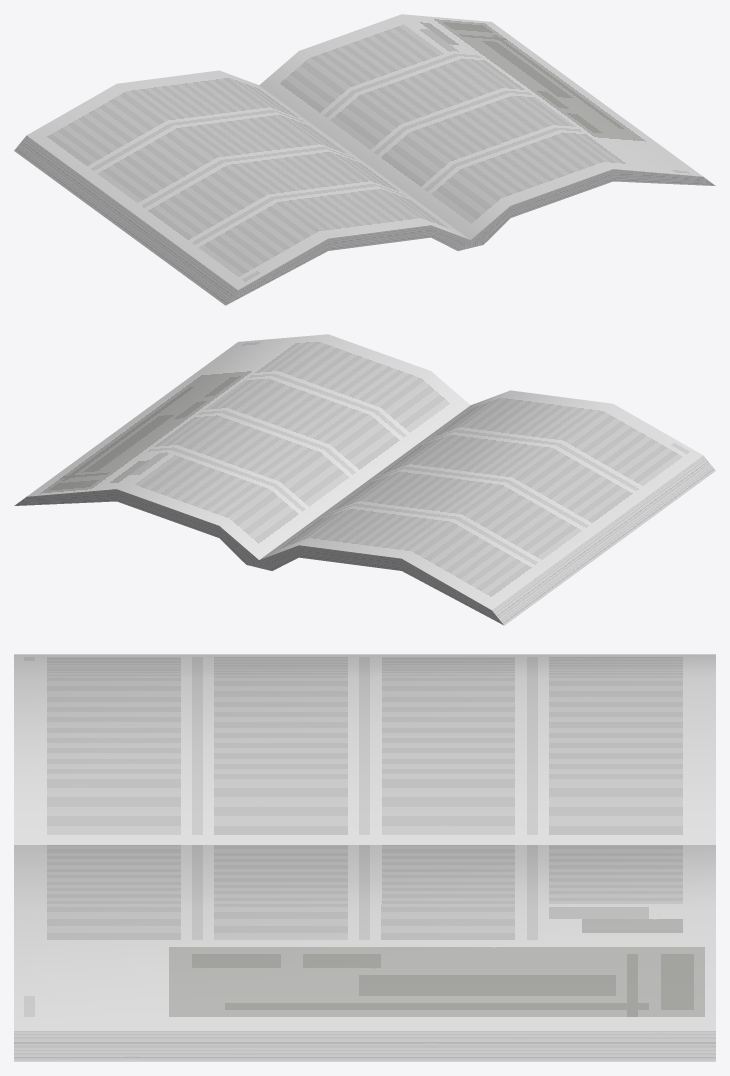
The model's file is 0388_Weekly_Magazine.glb.
The picture shows the model from 3 angles, top to bottom: view 1: azimuth 30°, elevation 25°; view 2: azimuth 150°, elevation 25°; view 3: azimuth 270°, elevation 25°; orthographic projection. The views are drawn at different scales.
Parts seen in each view (by area): view 1: part_0; view 2: part_0; view 3: part_0.
Part boxes in pixels (x1,y1,x2,y2): part_0: (14, 14, 715, 305); part_0: (14, 334, 715, 625); part_0: (14, 654, 715, 1061).
Size of the model in its own units: 0.2808 by 0.0241 by 0.2098.
Materials: 1 (1 with a texture image).
